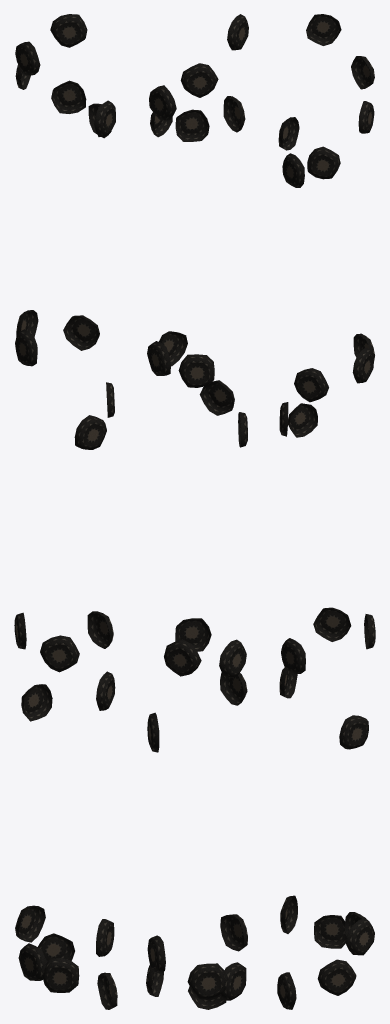
Rendered from Sitka_Mature_02_HighPruned_Healed_LOD1.fbx.
3 renders of one model, left to right at view 1: azimuth 90°, elevation 25°; view 2: azimuth 150°, elevation 25°; view 3: azimuth 270°, elevation 25°, orthographic. The views are drawn at different scales.
Visible parts, largest first — view 1: Sitka_Mature_02_HighPruned_Healed_LOD1_Scars; view 2: Sitka_Mature_02_HighPruned_Healed_LOD1_Scars; view 3: Sitka_Mature_02_HighPruned_Healed_LOD1_Scars.
Part boxes in pixels (left/top/right/bottom): Sitka_Mature_02_HighPruned_Healed_LOD1_Scars: left=14, top=14, right=117, bottom=1009; Sitka_Mature_02_HighPruned_Healed_LOD1_Scars: left=146, top=14, right=248, bottom=1009; Sitka_Mature_02_HighPruned_Healed_LOD1_Scars: left=277, top=14, right=375, bottom=1009.
Size of what is drawn, in the model's own units: 31.51 by 347 by 31.85.
2 materials, 2 textured.
